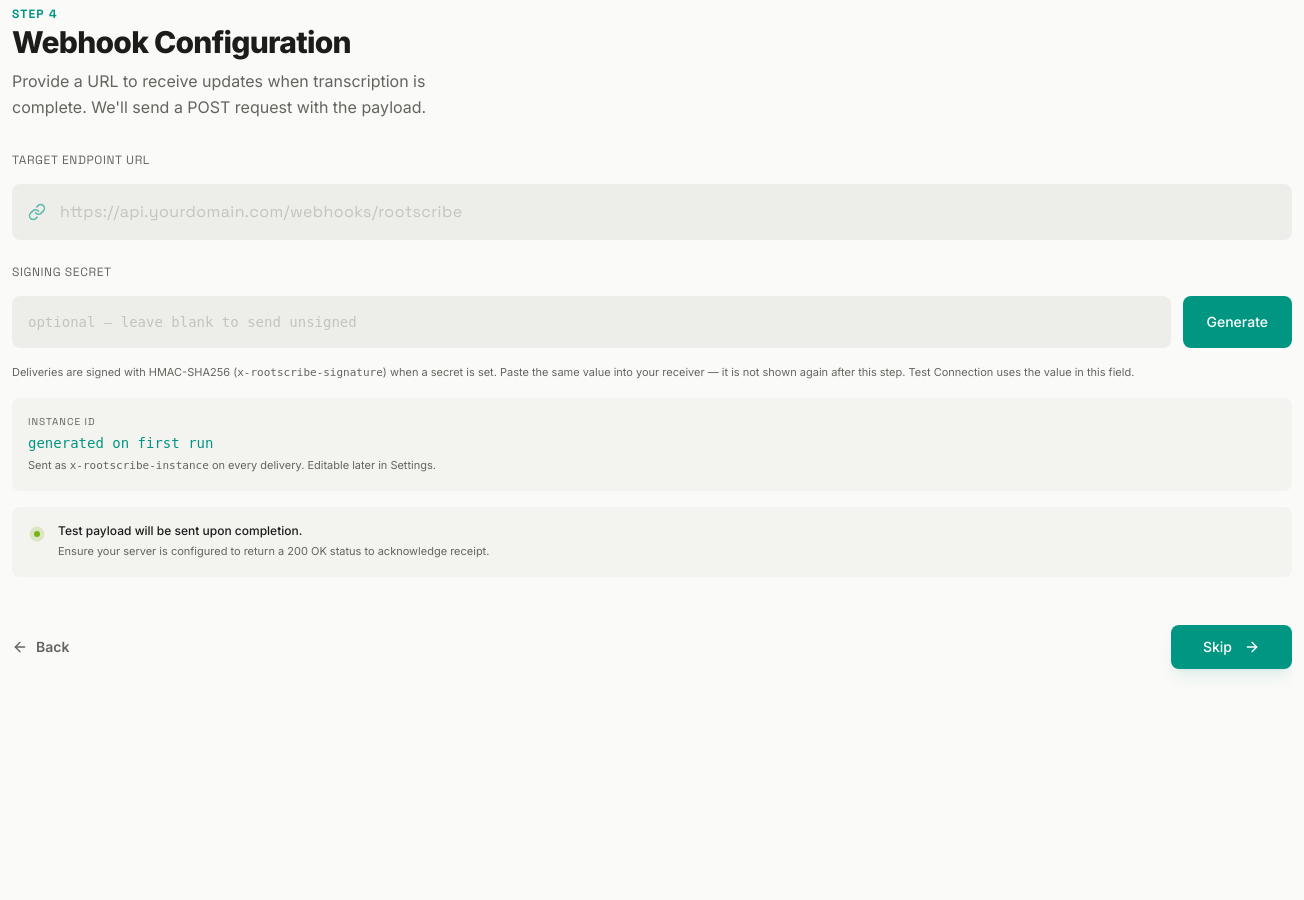
Test case: WebhookStep — test connection › renders the error message when the test returns ok=false with no status code
The image size is (1304, 900).
Type "https://hook.example" into the field with placeholder "https://api.yourdomain.com/webhooks/rootscribe" at (652,212), box [12,184,1292,240]
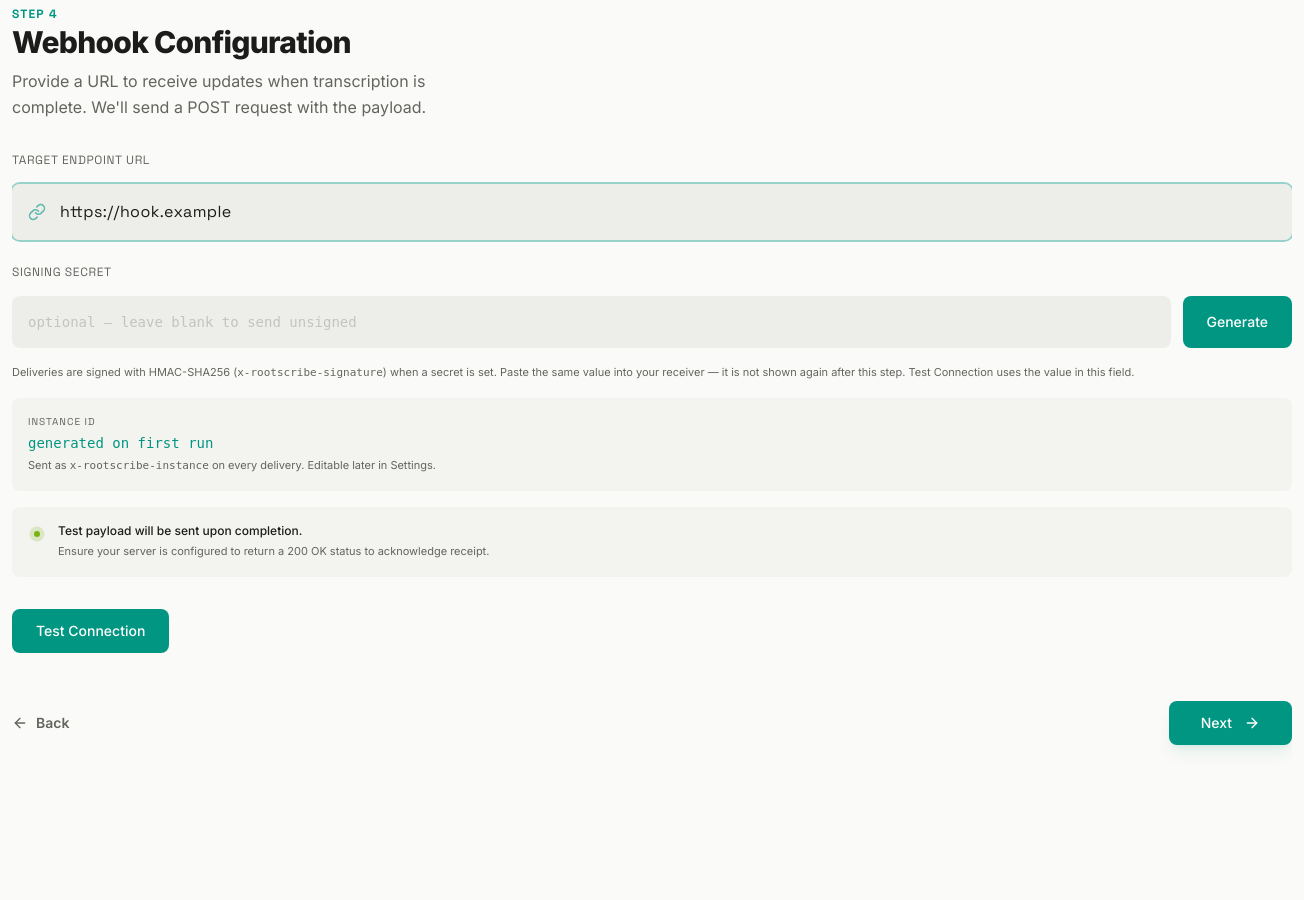
Now the button "Test Connection" is enabled
Click the button "Test Connection" at (91,631), box [12,609,169,653]
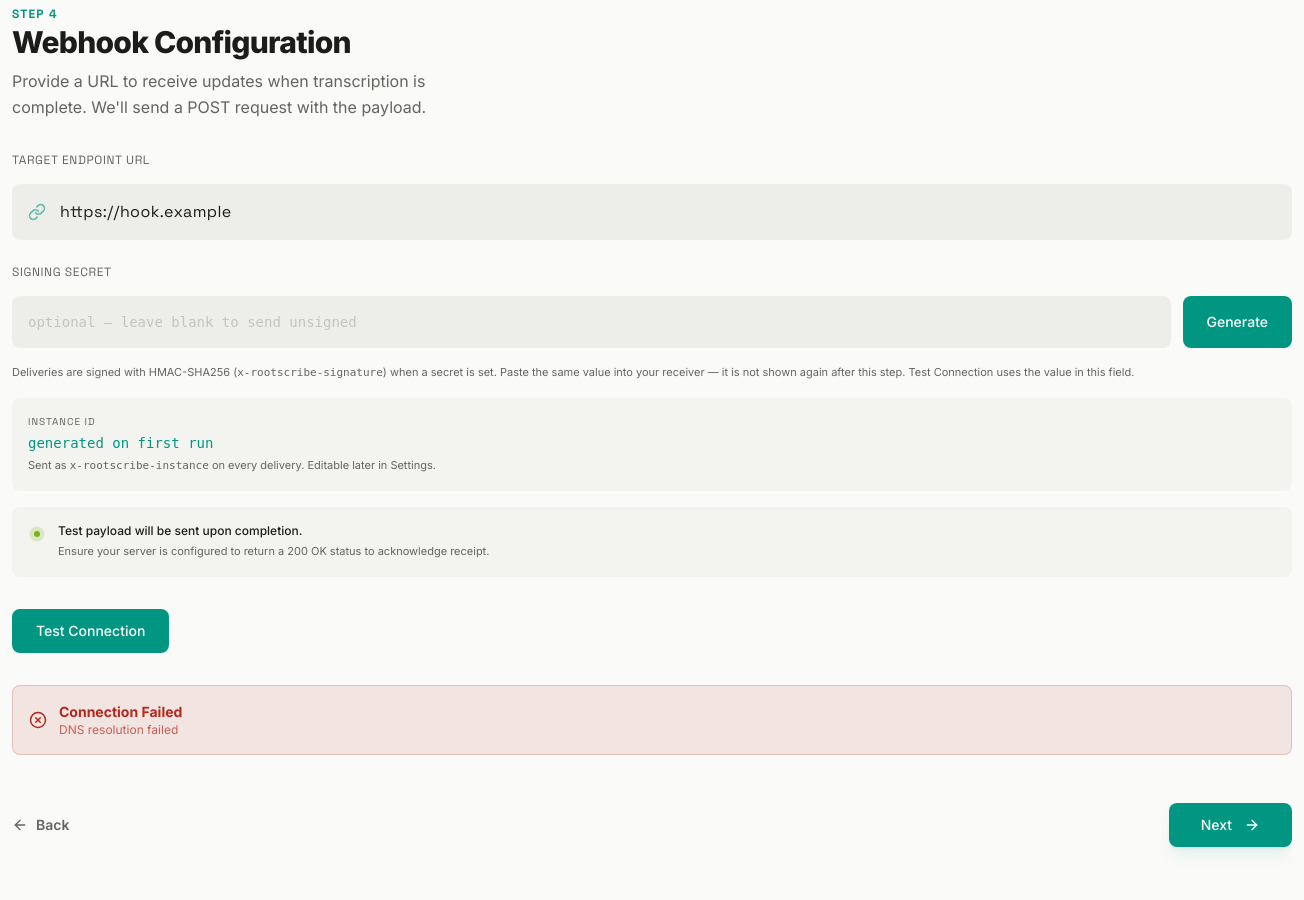
Now the text "DNS resolution failed" is shown, box [59,722,182,738]
